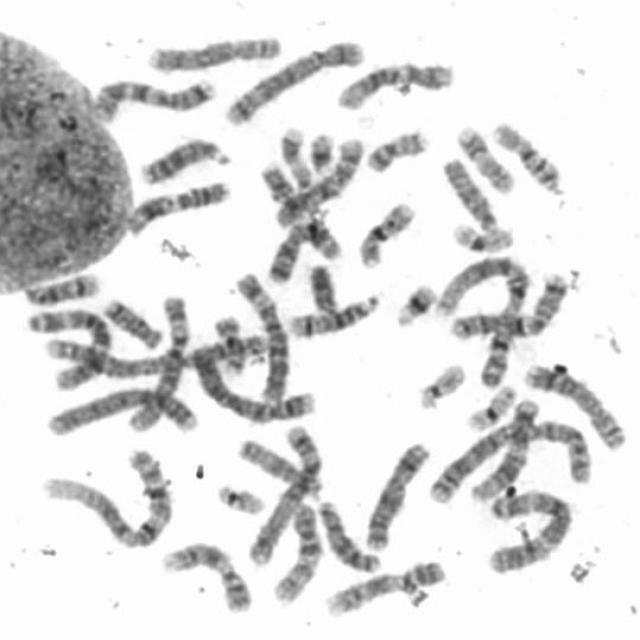A1: (38, 444, 177, 551), (431, 248, 534, 391)
A2: (424, 414, 596, 506), (40, 330, 266, 382)
A3: (482, 484, 575, 576), (22, 304, 116, 393)
B4: (187, 338, 321, 423), (41, 382, 202, 436)
B5: (221, 36, 367, 127), (241, 421, 329, 566)
C10: (271, 132, 368, 228), (267, 500, 327, 606)
C11: (256, 162, 344, 263), (120, 175, 234, 238)
C12: (467, 394, 540, 504), (331, 56, 457, 112)
C6: (120, 288, 193, 434), (232, 266, 294, 411)
C7: (442, 271, 572, 342), (89, 72, 217, 124)
C8: (518, 359, 628, 453), (142, 31, 282, 74)
C9: (321, 555, 451, 620), (158, 536, 254, 614)
D13: (312, 494, 382, 574), (136, 134, 232, 187)
D14: (282, 289, 386, 340), (19, 267, 103, 307)
D15: (234, 433, 325, 498), (437, 152, 501, 234)
E16: (489, 118, 566, 196), (353, 195, 419, 271)
E17: (449, 120, 516, 196), (276, 122, 314, 192)
E18: (97, 292, 165, 352), (265, 224, 310, 286)
F19: (460, 381, 518, 435), (448, 218, 516, 254)
F20: (362, 124, 431, 176), (209, 311, 247, 375)
G21: (389, 276, 442, 330), (306, 127, 338, 178)
G22: (413, 358, 468, 411), (213, 479, 267, 517)
X: (359, 437, 432, 552)
Y: (304, 259, 343, 316)
